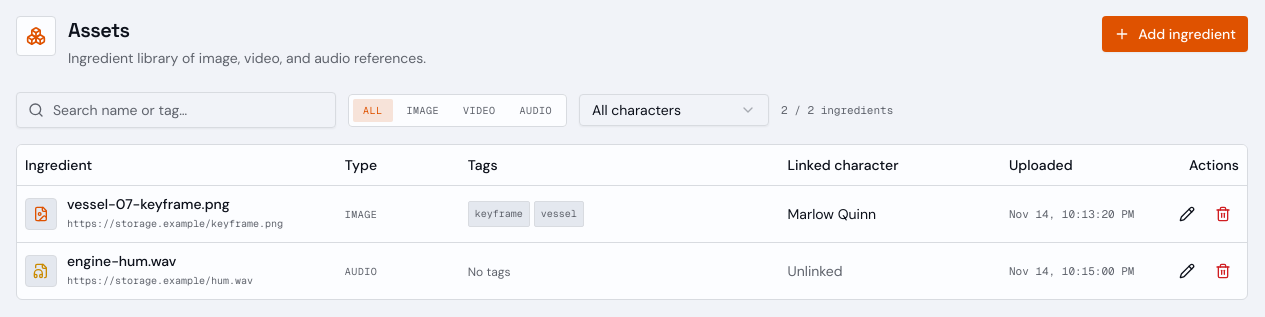
Test: AssetsPage › filters ingredients by type
This screenshot has width=1265, height=317.
Check: the text "vessel-07-keyframe.png" is shown, box x1=67 y1=194 x2=230 y2=212
Click the button with test id "assets.filter.audio.tab": (536, 110) x1=510 y1=98 x2=562 y2=122
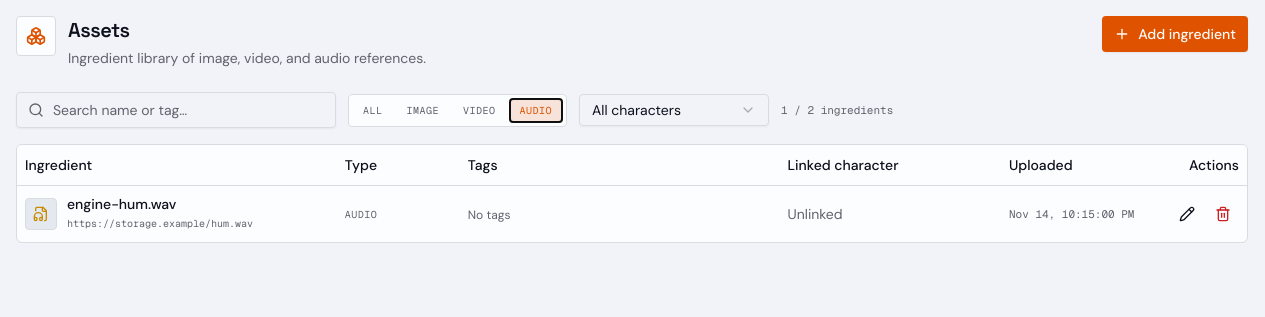
Check: the text "engine-hum.wav" is shown, box x1=67 y1=194 x2=176 y2=212
Check: the text "vessel-07-keyframe.png" is gone
